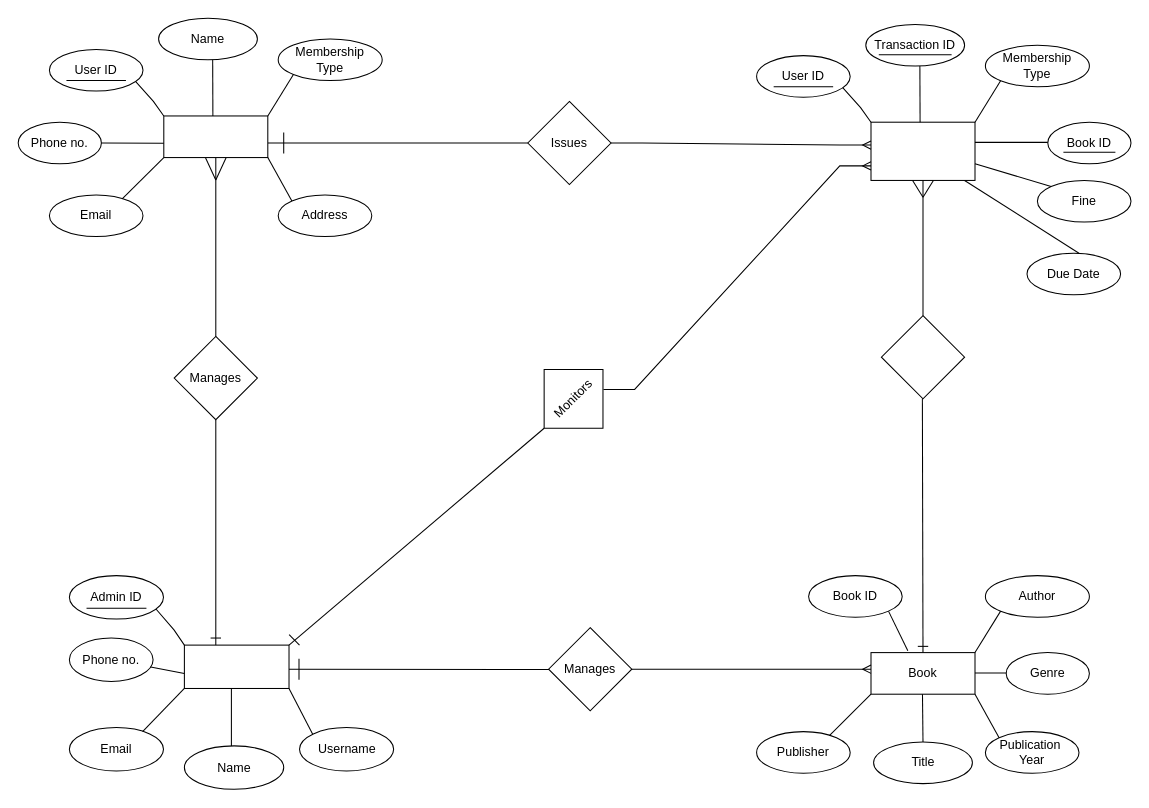
The diagram is 1149 pixels wide and 808 high, and some of its shapes have lost their labels. The shapes that lost their labels are listed below. From the top down, each one's box as (x1, y1, x2, y2) in pixels, then its label:
(163, 115, 268, 158): User
(870, 121, 975, 180): Transaction
(880, 315, 965, 399): Contains
(183, 644, 289, 688): Admin
